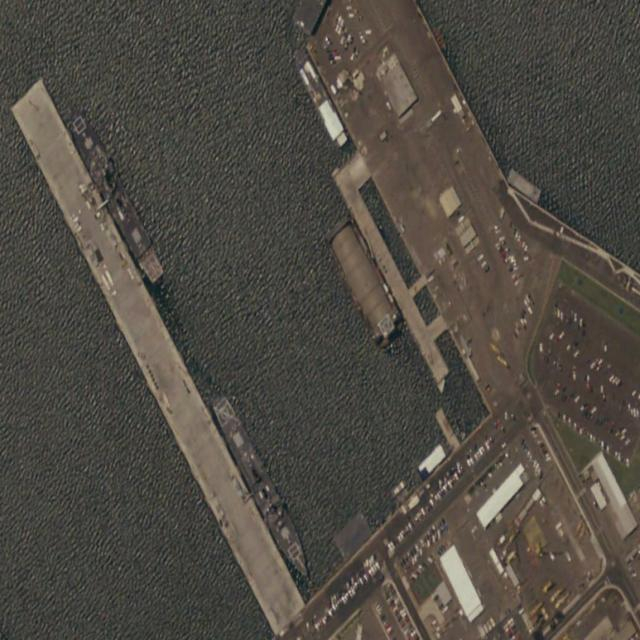Destroyer: (208, 387, 316, 589), (60, 96, 169, 288)
